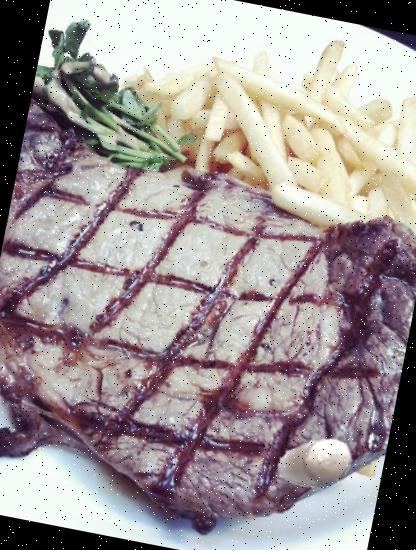Hazelnut: (270, 419, 360, 508)
